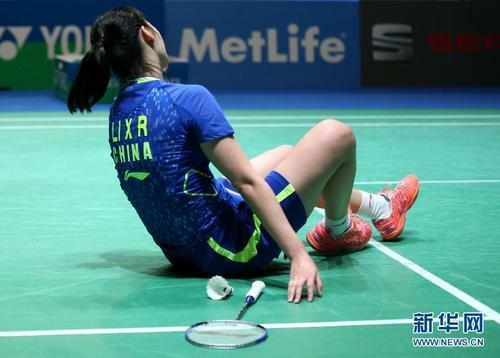Fall-Detected: (75, 0, 420, 309)
